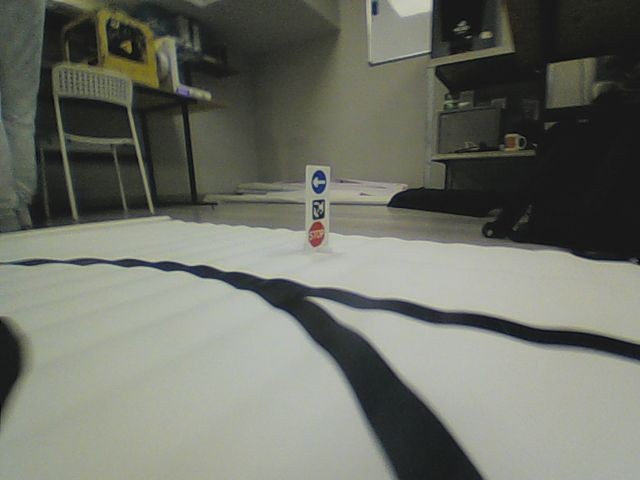Stop: (307, 221, 325, 248)
